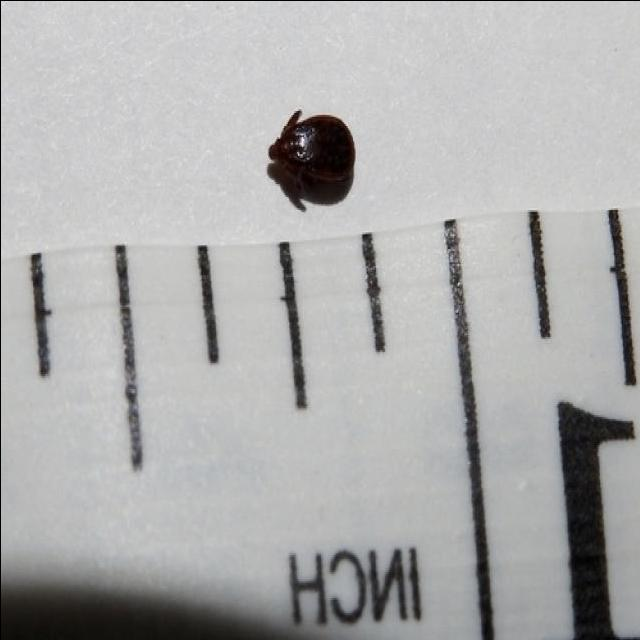Rhipicephalus Sanguineus-M: (264, 110, 358, 187)
